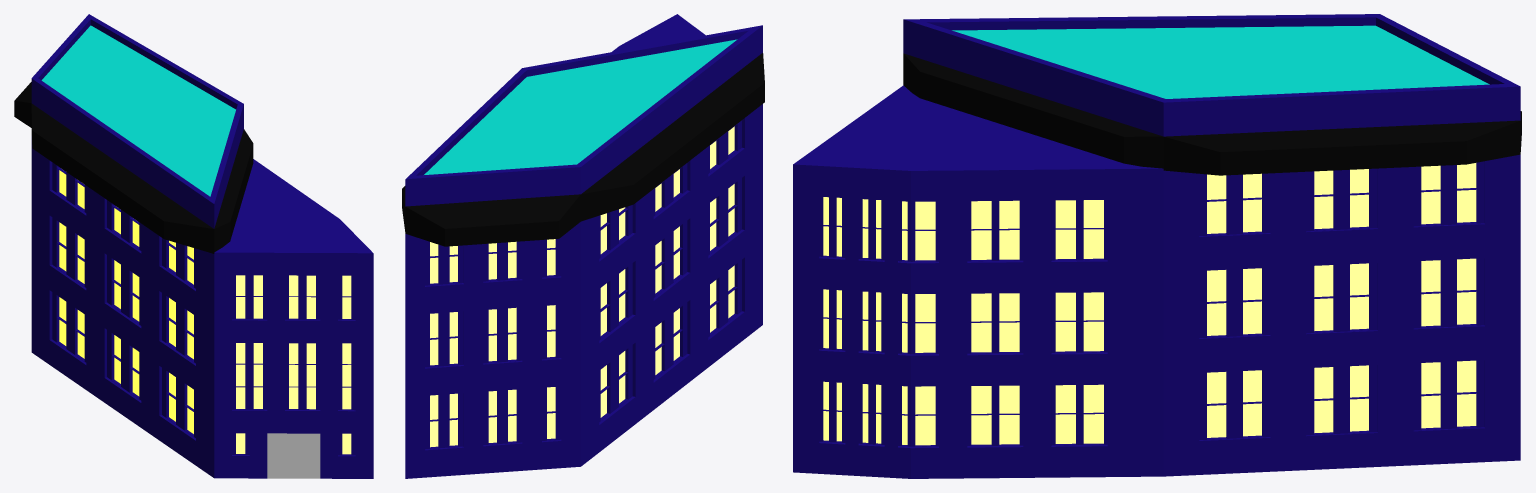
File: st_clement_tower.fbx
The picture shows the model from 3 angles, left to right: view 1: azimuth 30°, elevation 25°; view 2: azimuth 150°, elevation 25°; view 3: azimuth 270°, elevation 25°; orthographic projection. The views are drawn at different scales.
Parts seen in each view (by area): view 1: Plane; view 2: Plane; view 3: Plane.
Part boxes in pixels (x1=…): Plane: x1=14, y1=14, x2=373, y2=478; Plane: x1=402, y1=14, x2=764, y2=478; Plane: x1=793, y1=14, x2=1521, y2=478.
Size of the model in its own units: 335 by 510 by 901.
